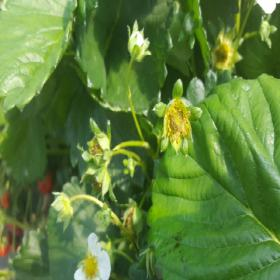Blossom Blight: (162, 98, 192, 149)
